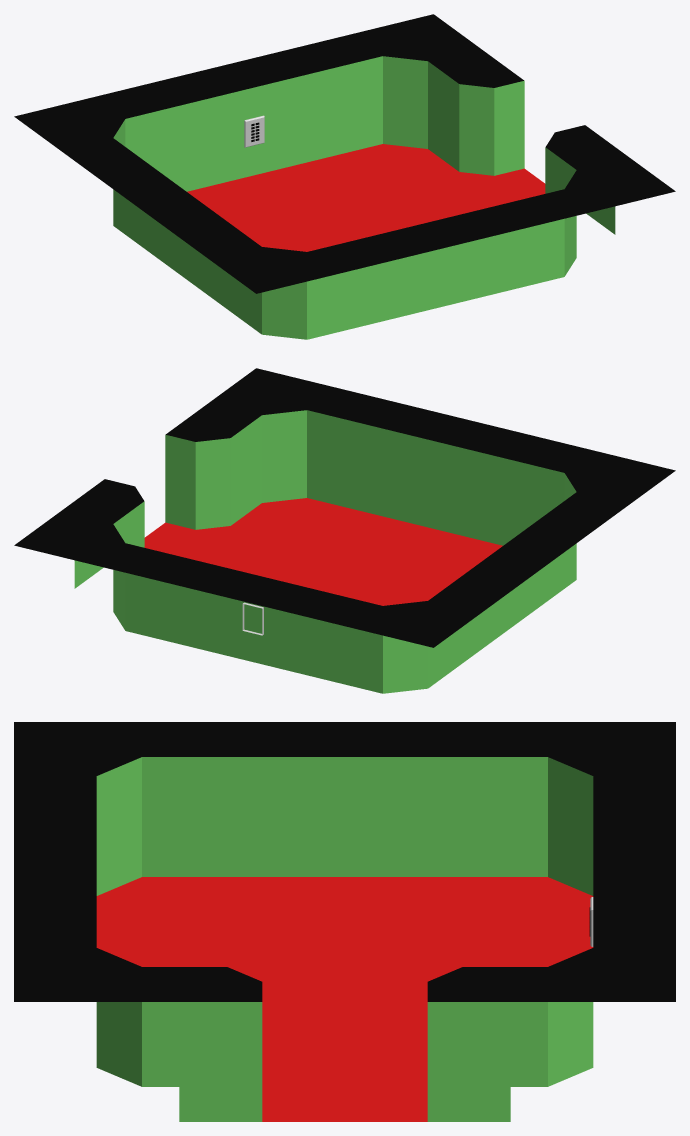
File: elevator.fbx
The picture shows the model from 3 angles, top to bottom: view 1: azimuth 30°, elevation 25°; view 2: azimuth 150°, elevation 25°; view 3: azimuth 270°, elevation 25°; orthographic projection. The views are drawn at different scales.
Visible parts, largest first — view 1: elevator; view 2: elevator; view 3: elevator.
Part boxes in pixels (x1,y1,x2,y2): elevator: (14, 14, 675, 339); elevator: (14, 368, 675, 693); elevator: (14, 722, 675, 1121).
Bounding box in the file's own units: 2000 × 400 × 2000.
